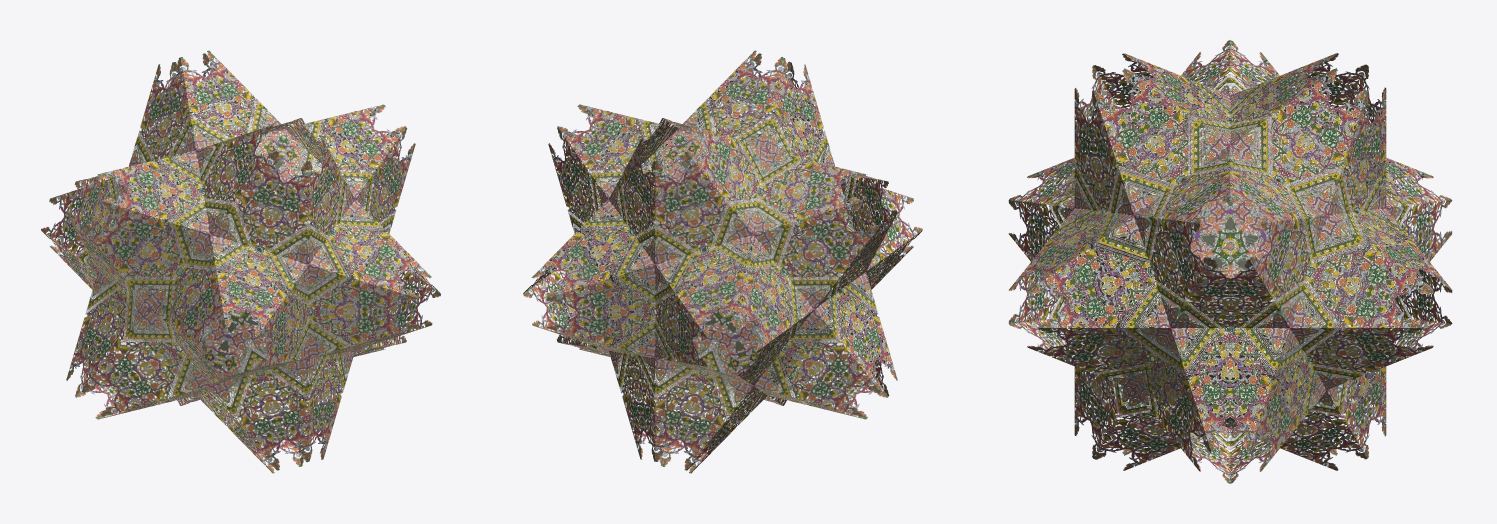
File: SmallStellatedDodecahedron2.obj
3 views of the same model, side by side, from view 1: azimuth 30°, elevation 25°; view 2: azimuth 150°, elevation 25°; view 3: azimuth 270°, elevation 25° (orthographic). The views are drawn at different scales.
Bounding box in the file's own units: 1 × 1 × 1.
1 material, 1 textured.
